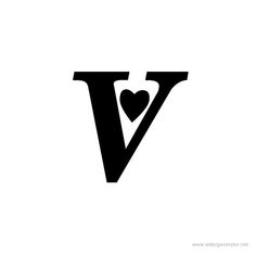v: (62, 56, 210, 192)
